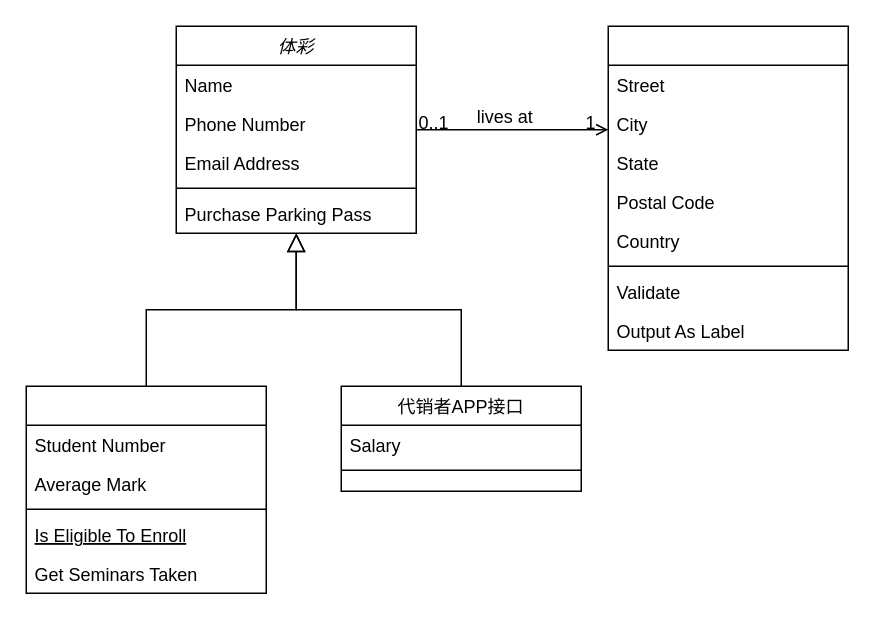
Image size: 875x624. Some labels were removed from this diagram. Here are the shapes that lost their labels. From the top down, the box of each, then its label:
(607, 25, 848, 350): 大乐透
(25, 385, 266, 593): 数据中台
